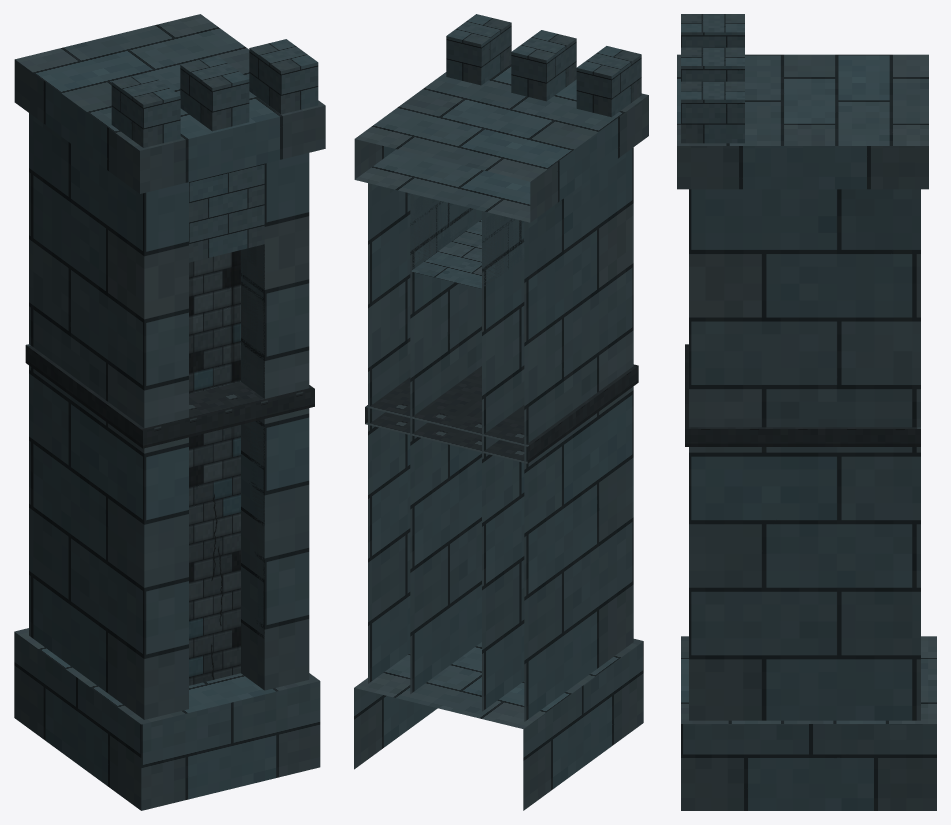
File: T1_Gate_Tower.fbx
The picture shows the model from 3 angles, left to right: view 1: azimuth 30°, elevation 25°; view 2: azimuth 150°, elevation 25°; view 3: azimuth 270°, elevation 25°; orthographic projection. The views are drawn at different scales.
Visible parts, largest first — view 1: T1_Gate_Tower; view 2: T1_Gate_Tower; view 3: T1_Gate_Tower.
Part boxes in pixels (bbox=[...]): T1_Gate_Tower: bbox=[14, 14, 325, 810]; T1_Gate_Tower: bbox=[354, 14, 648, 810]; T1_Gate_Tower: bbox=[677, 14, 936, 810].
Bounding box in the file's own units: 2.7 × 9.8 × 3.25.
